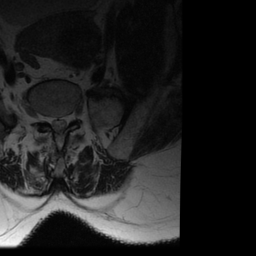CCS_normal: (55, 108, 61, 138)
LFS_normal: (67, 107, 74, 129)
LLS_normal: (61, 108, 67, 134)
RFS_normal: (41, 106, 48, 127)
RLS_normal: (49, 109, 55, 133)
